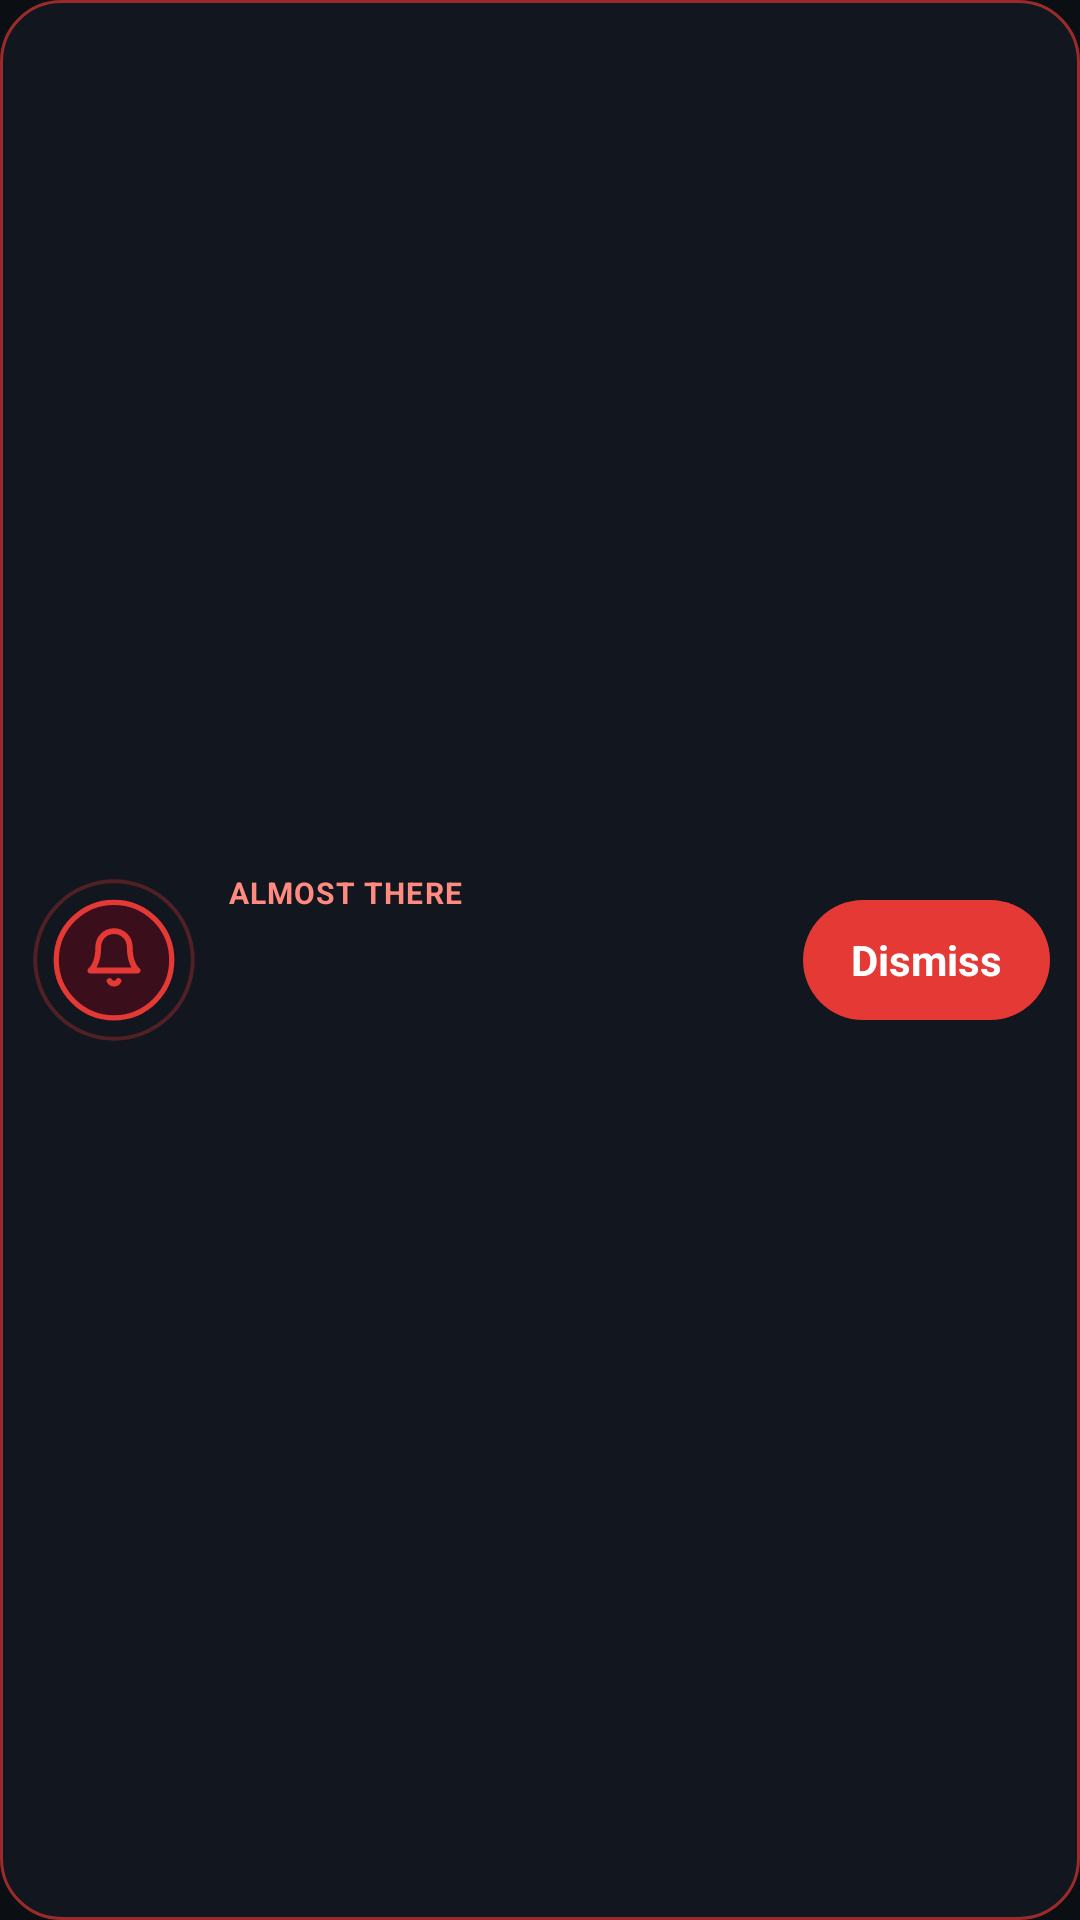

Icons on this 1080px x 1920px Android screen, each with its box as (x1, y1, x2, y2):
notif alarm art: (33, 879, 195, 1041)
